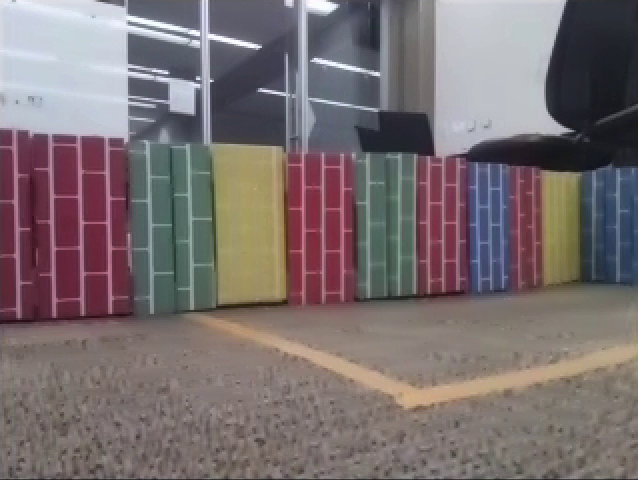cube: (251, 349, 375, 479)
